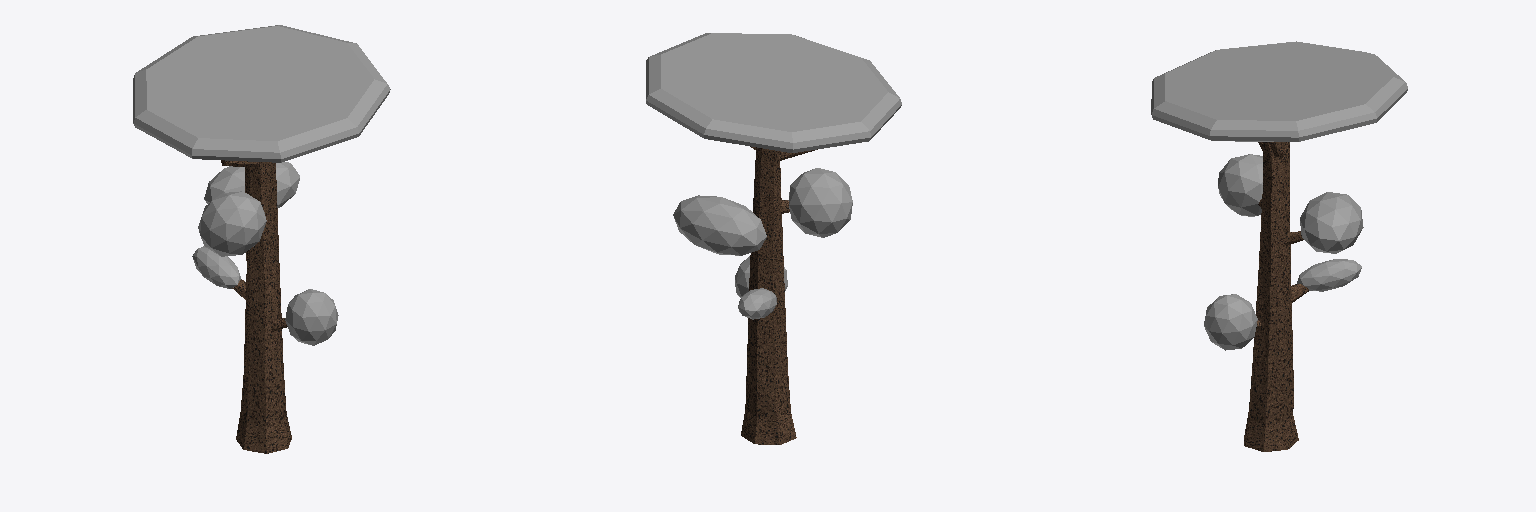
3 views of the same model, side by side, from view 1: azimuth 30°, elevation 25°; view 2: azimuth 150°, elevation 25°; view 3: azimuth 270°, elevation 25° (orthographic).
Visible parts, largest first — view 1: Icosphere.000_Icosphere.011, Icosphere.008_Icosphere.007, Icosphere.004_Icosphere.003; view 2: Icosphere.000_Icosphere.011, Icosphere.008_Icosphere.007, Icosphere.004_Icosphere.003; view 3: Icosphere.000_Icosphere.011, Icosphere.008_Icosphere.007, Icosphere.004_Icosphere.003.
Part boxes in pixels (x1,y1,x2,y2): Icosphere.000_Icosphere.011: (133, 25, 390, 162); Icosphere.008_Icosphere.007: (221, 160, 291, 453); Icosphere.004_Icosphere.003: (192, 162, 338, 345); Icosphere.000_Icosphere.011: (646, 33, 901, 152); Icosphere.008_Icosphere.007: (741, 146, 817, 444); Icosphere.004_Icosphere.003: (673, 168, 852, 319); Icosphere.000_Icosphere.011: (1151, 41, 1407, 141); Icosphere.008_Icosphere.007: (1244, 142, 1308, 451); Icosphere.004_Icosphere.003: (1204, 154, 1363, 350).
Bounding box in the file's own units: 2.39 × 3.7 × 2.35.
Materials: 3 (1 with a texture image).